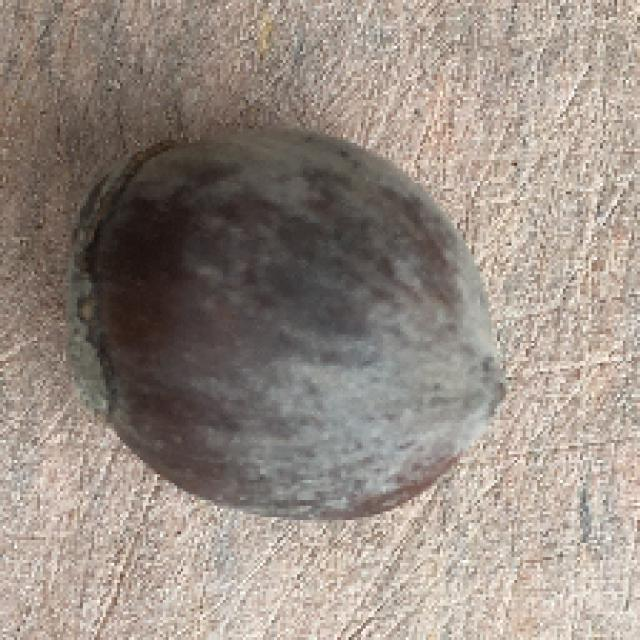DamagedHazelnut: (68, 130, 512, 517)
